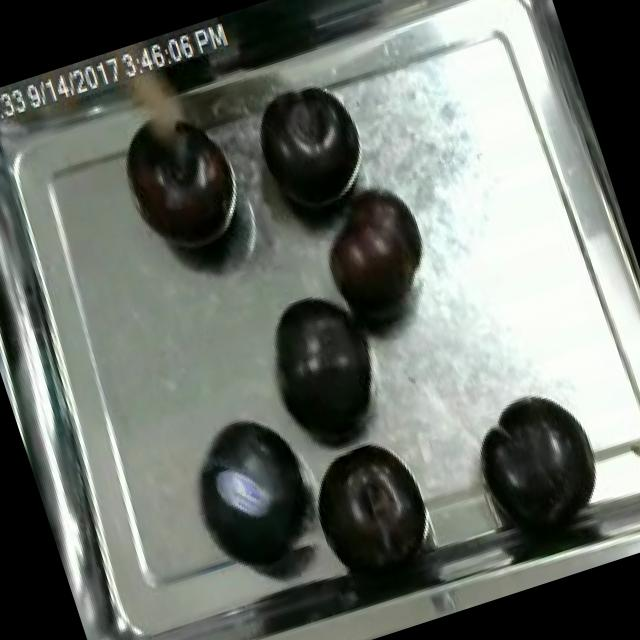Fruit: (172, 390, 339, 584), (238, 272, 399, 464), (98, 94, 260, 278), (299, 170, 449, 343), (462, 376, 616, 542), (294, 424, 444, 588), (234, 68, 384, 232)
